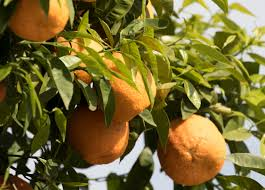orange: (157, 110, 228, 182), (91, 47, 157, 119), (62, 99, 130, 163)
